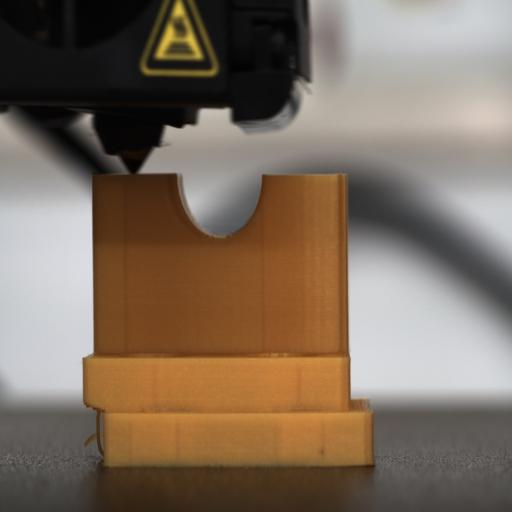layer_shift: (82, 398, 378, 420)
